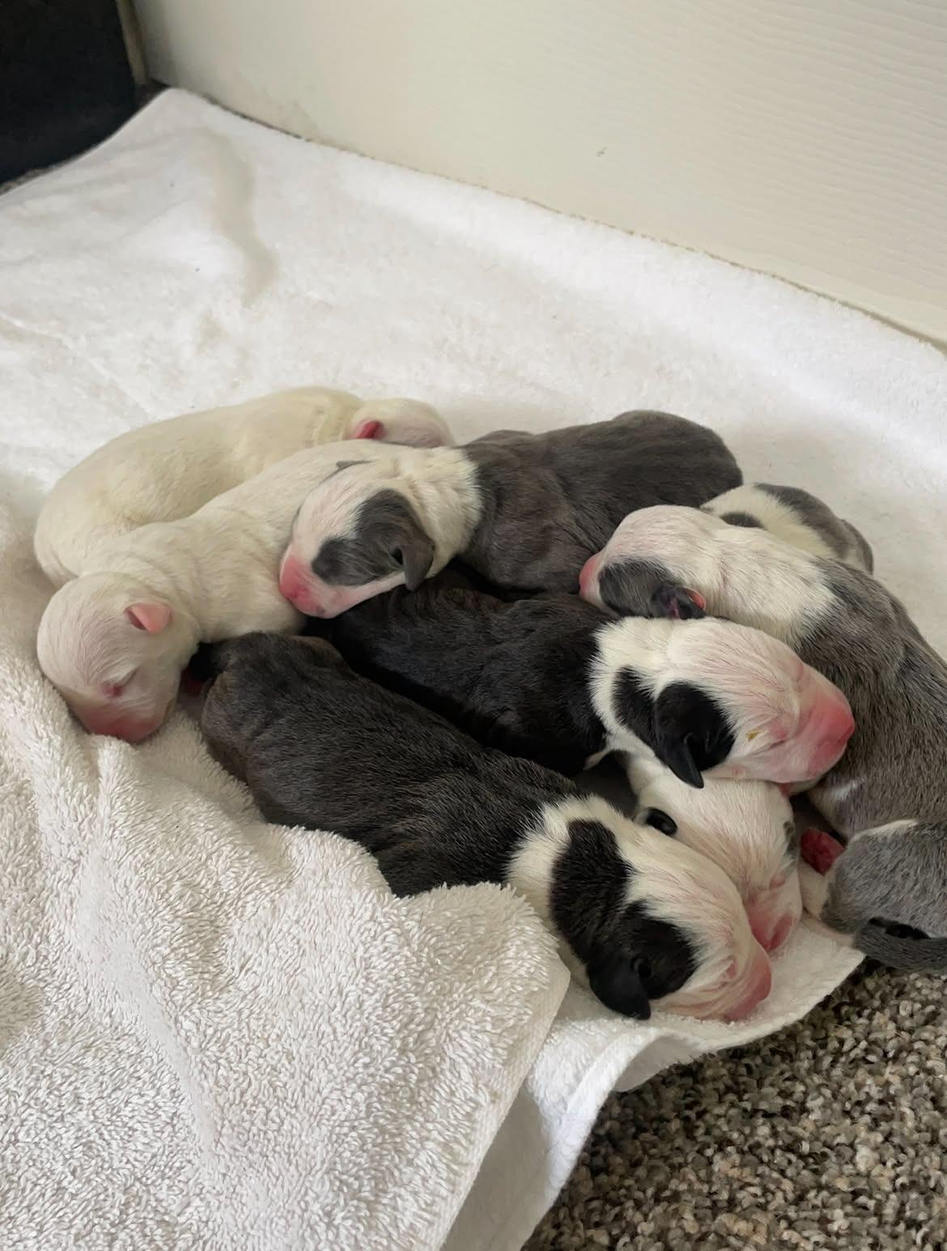puppy-dog: (197, 634, 774, 1027), (578, 502, 947, 973), (309, 575, 856, 794), (34, 439, 401, 744), (278, 409, 745, 620), (32, 385, 459, 594), (610, 751, 805, 955)
